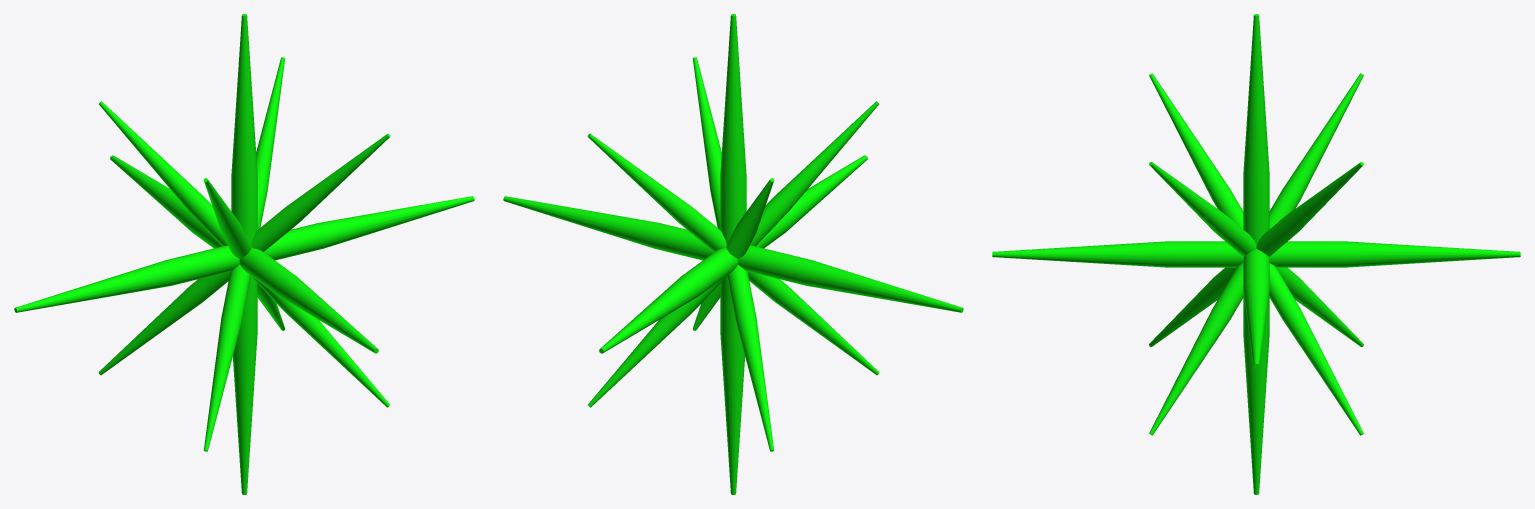
The model's file is spawner.obj.
3 renders of one model, left to right at view 1: azimuth 30°, elevation 25°; view 2: azimuth 150°, elevation 25°; view 3: azimuth 270°, elevation 25°, orthographic.
Visible parts, largest first — view 1: spawner; view 2: spawner; view 3: spawner.
Boxes of the visible parts, x1,y1,x2,y2 form: spawner: [14, 14, 474, 494]; spawner: [503, 14, 963, 494]; spawner: [992, 14, 1520, 494].
Bounding box in the file's own units: 1 × 1 × 1.
Materials: 1 (1 with a texture image).
